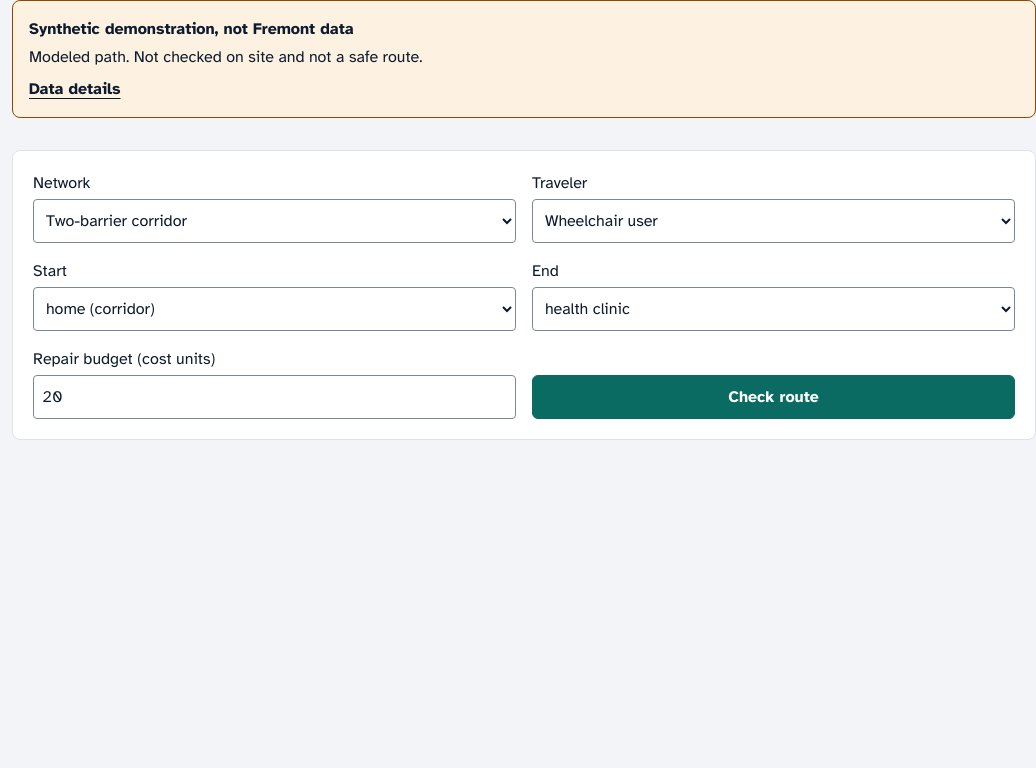
sends the last seen snapshot and explains a stale one
Expected: the dropdown labelled "Start" is shown, [33,287,516,331]
Click the button "Check route". click: x=774, y=397
box: [532,375,1015,419]
(page scrolled)
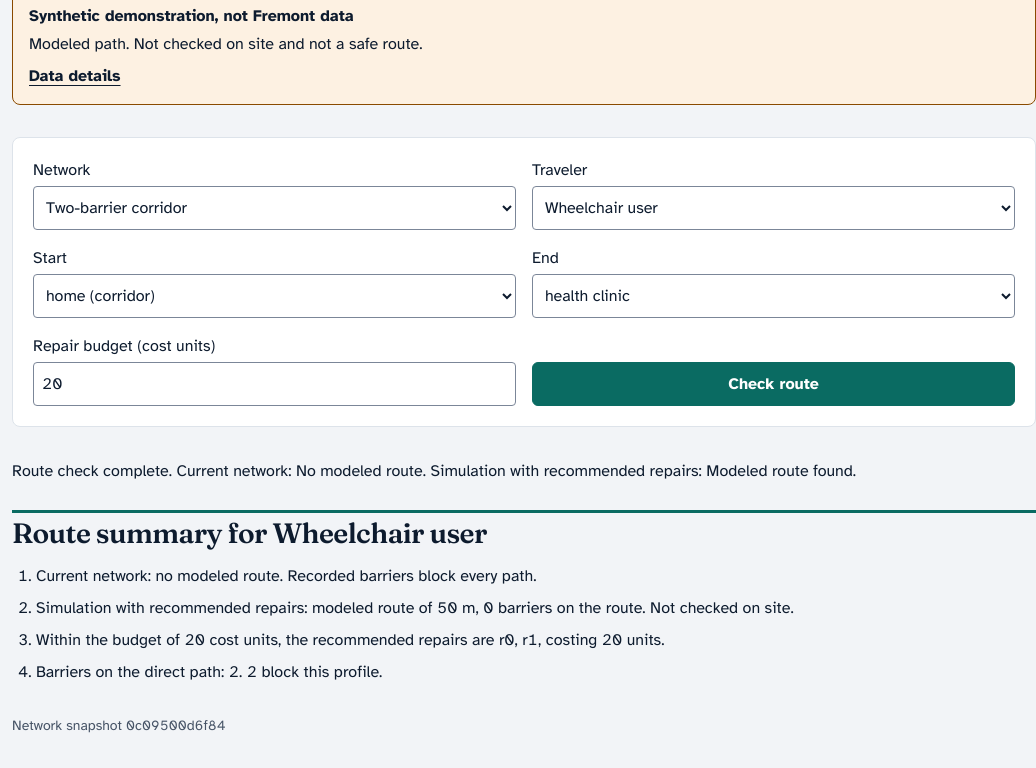
Result: the heading "Route summary for Wheelchair user" is shown at [12,516,487,550]
Click the button "Check route". click: x=774, y=384
box: [532,362,1015,406]
(page scrolled)
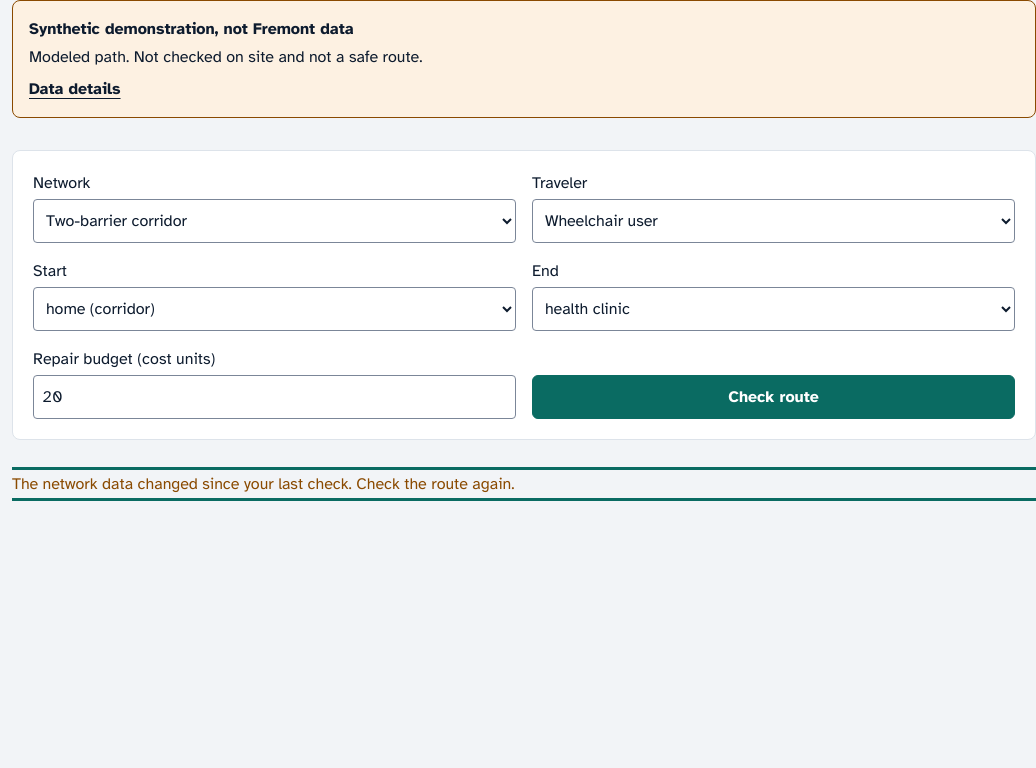
Result: the text "The network data changed since your last check. Check the route again." is shown at [12,474,515,494]
